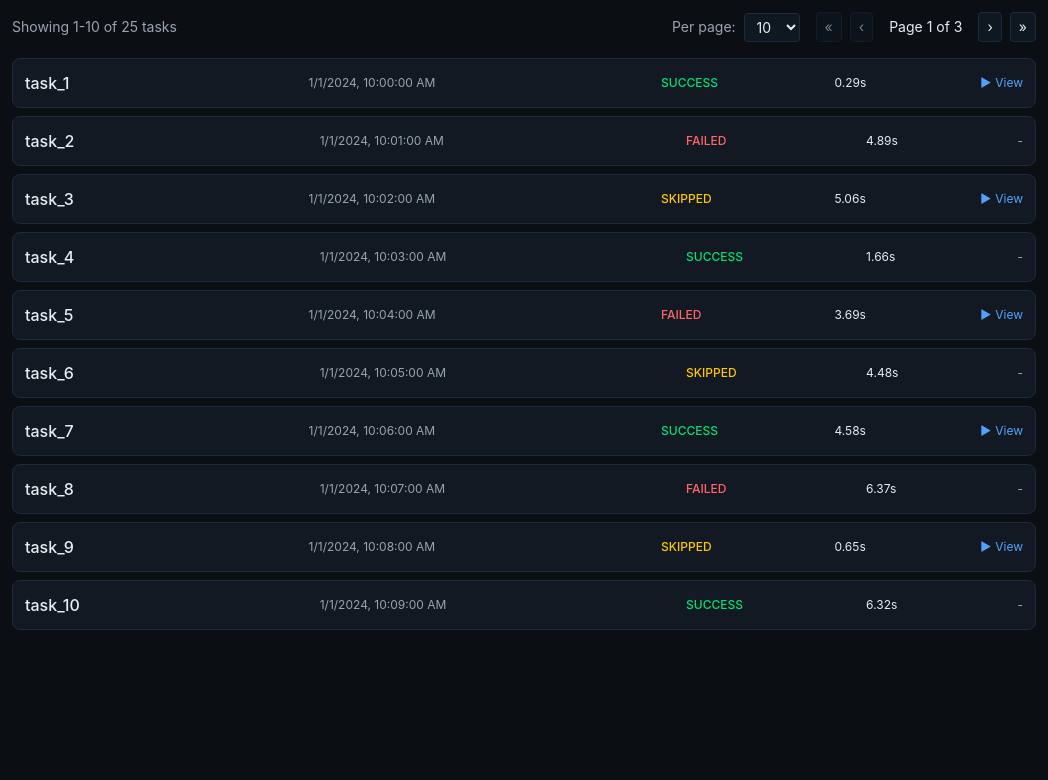
Test: ServiceTasksTable › Bug #75: Pagination functionality › disables next/last buttons on last page
// Go to last page
What coordinates should you click on to do the following:
click the button titled "Last page"
I would click on:
 (1023, 27)
Its box is [1010,12,1036,42].
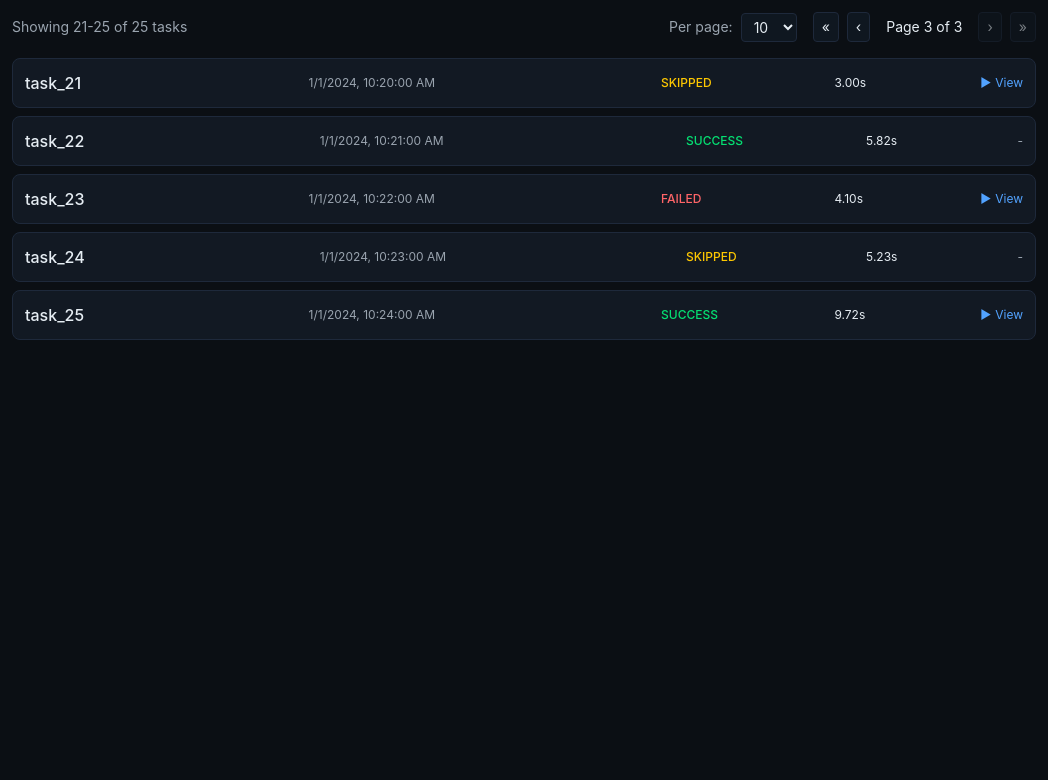
expect the button titled "Next page" is disabled: met, box [978,12,1002,42]
expect the button titled "Last page" is disabled: met, box [1010,12,1036,42]
